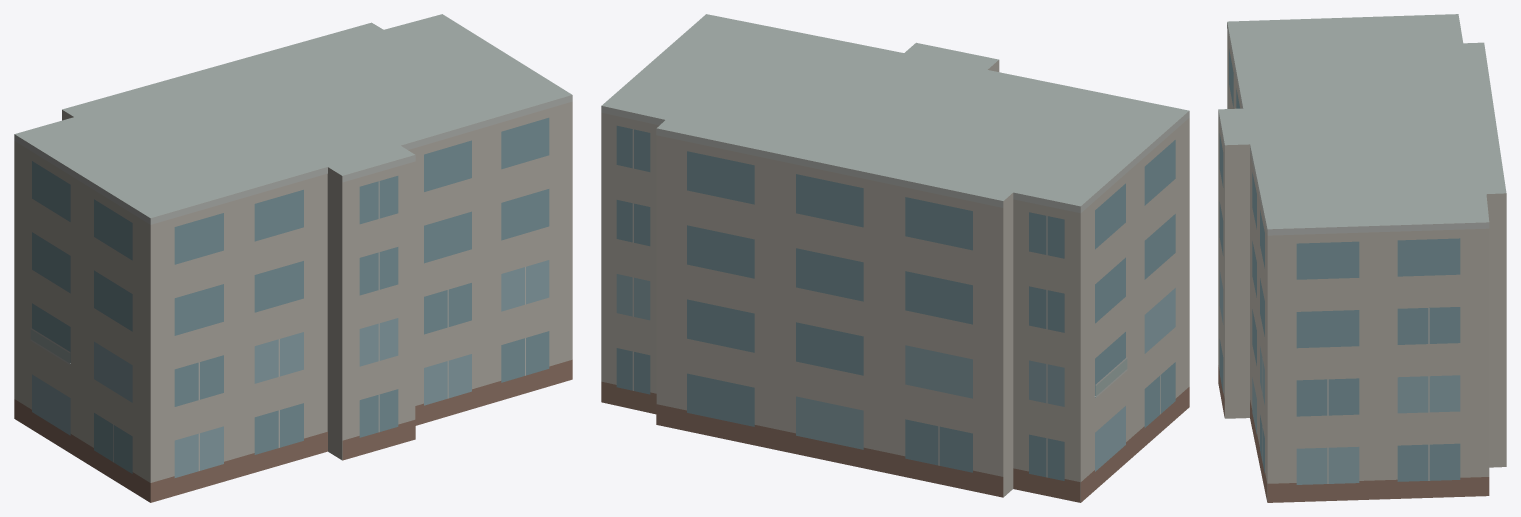
The model's file is survey-upis-32757077.glb.
The picture shows the model from 3 angles, left to right: view 1: azimuth 30°, elevation 25°; view 2: azimuth 150°, elevation 25°; view 3: azimuth 270°, elevation 25°; orthographic projection. The views are drawn at different scales.
Parts seen in each view (by area): view 1: survey-upis-32757077.tmp; view 2: survey-upis-32757077.tmp; view 3: survey-upis-32757077.tmp.
Part boxes in pixels (box(x1,y1,x2,y2)): survey-upis-32757077.tmp: box(14, 14, 572, 502); survey-upis-32757077.tmp: box(601, 14, 1189, 502); survey-upis-32757077.tmp: box(1218, 14, 1506, 502).
Size of the model in its own units: 17.73 by 10.5 by 10.03.
